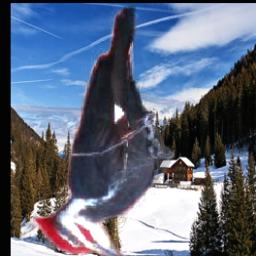Woodpecker: (33, 7, 175, 256)
